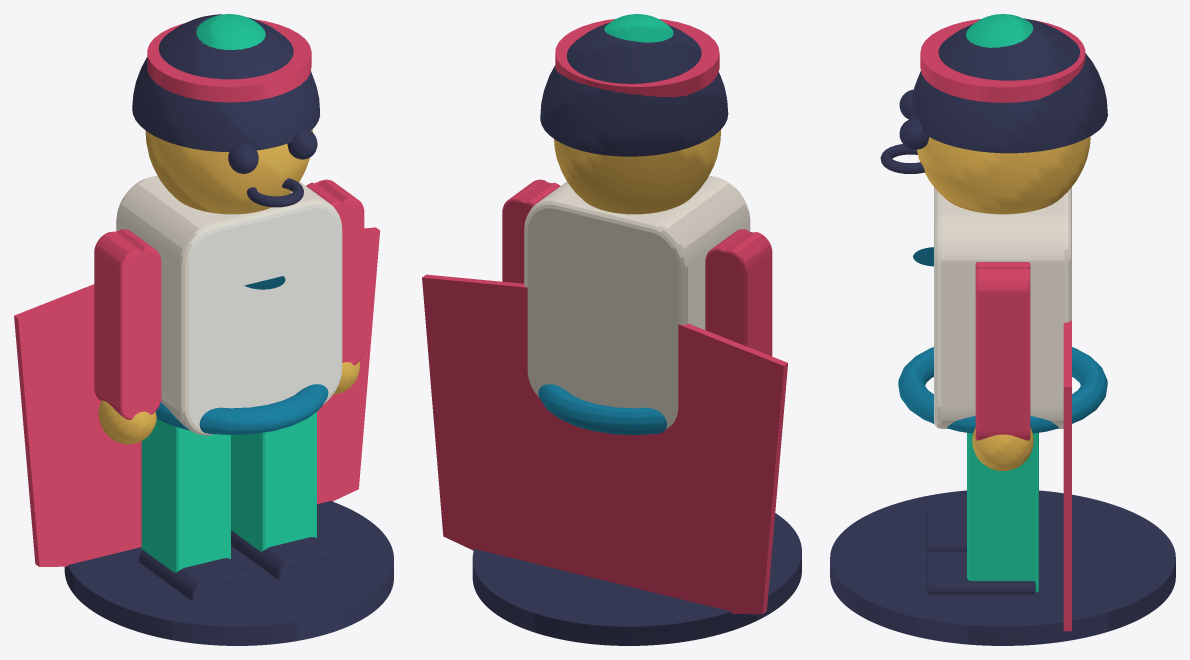
Rendered from 0760_先秦图鉴_孔子.glb.
3 renders of one model, left to right at view 1: azimuth 30°, elevation 25°; view 2: azimuth 150°, elevation 25°; view 3: azimuth 270°, elevation 25°, orthographic.
Visible parts, largest first — view 1: card_0760; view 2: card_0760; view 3: card_0760.
Boxes of the visible parts, left/top/right/bottom form: card_0760: left=14, top=14, right=393, bottom=645; card_0760: left=422, top=14, right=801, bottom=645; card_0760: left=830, top=14, right=1175, bottom=645.
Bounding box in the file's own units: 0.667 × 1 × 0.549.
